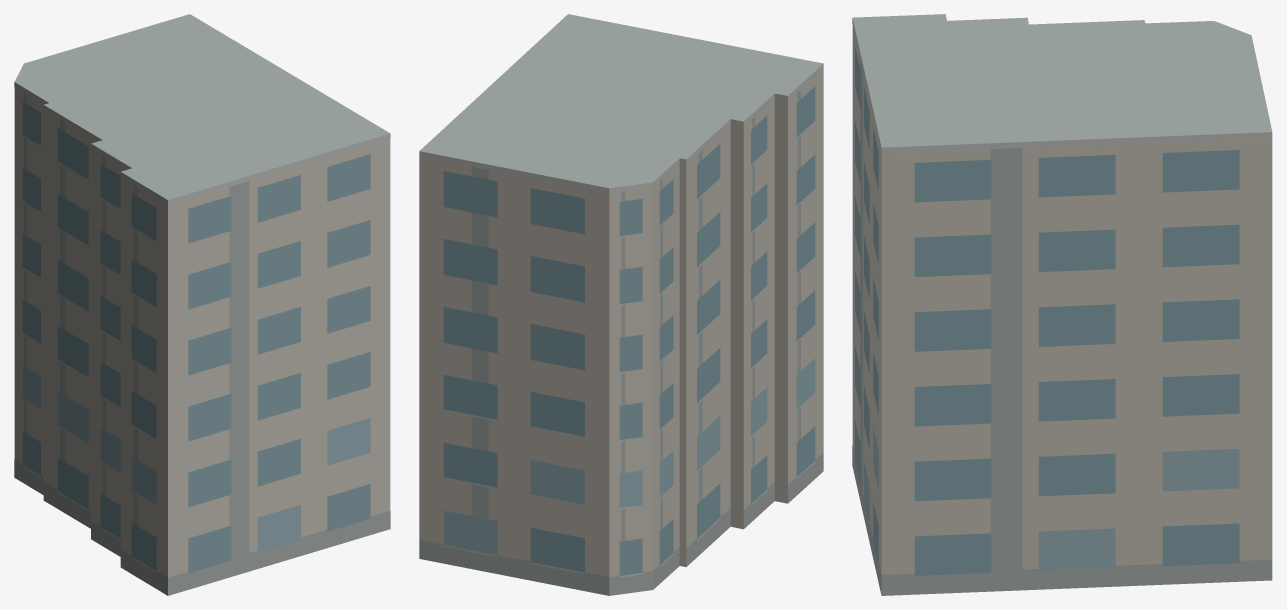
The model's file is survey-upis-33002582.glb.
3 views of the same model, side by side, from view 1: azimuth 30°, elevation 25°; view 2: azimuth 150°, elevation 25°; view 3: azimuth 270°, elevation 25° (orthographic). The views are drawn at different scales.
Parts seen in each view (by area): view 1: survey-upis-33002582.tmp; view 2: survey-upis-33002582.tmp; view 3: survey-upis-33002582.tmp.
Boxes of the visible parts, <box> form: survey-upis-33002582.tmp: <box>14,14,390,595</box>; survey-upis-33002582.tmp: <box>419,14,823,595</box>; survey-upis-33002582.tmp: <box>852,14,1272,595</box>.
Bounding box in the file's own units: 11.77 × 18.4 × 15.63.
